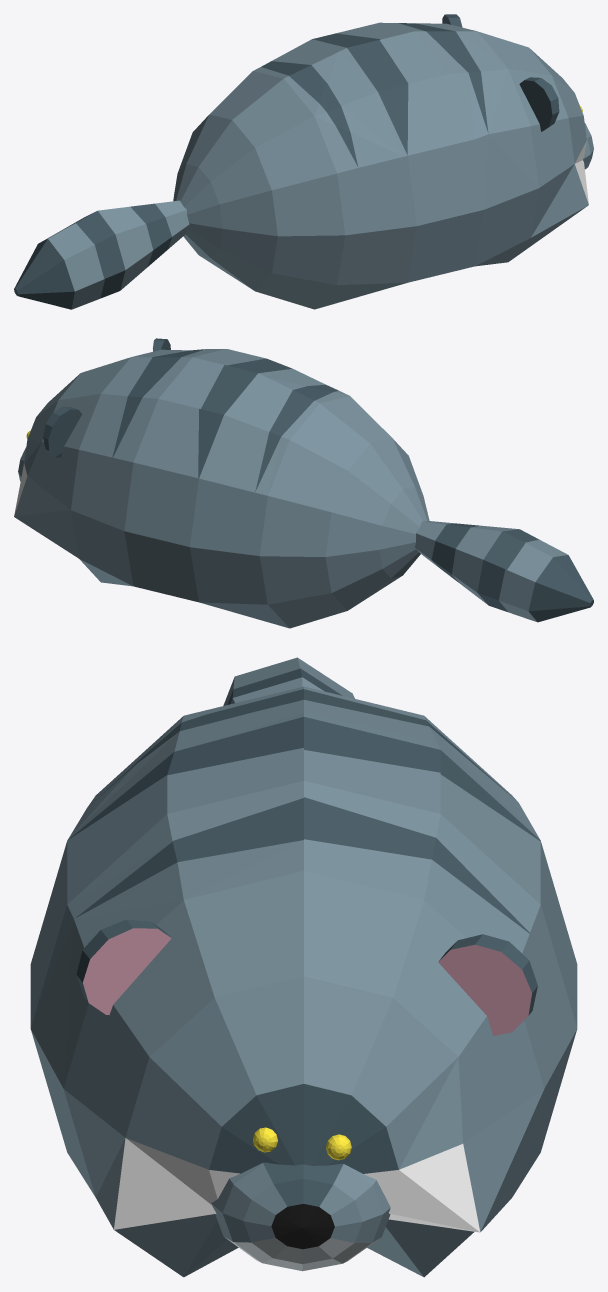
The model's file is raccoonmodel.fbx.
The picture shows the model from 3 angles, top to bottom: view 1: azimuth 30°, elevation 25°; view 2: azimuth 150°, elevation 25°; view 3: azimuth 270°, elevation 25°; orthographic projection. The views are drawn at different scales.
Visible parts, largest first — view 1: mesh_881793275, group_1414539115, mesh_1323920482; view 2: mesh_881793275, group_1414539115, mesh_156056444; view 3: mesh_881793275, mesh_1773084115, mesh_156056444, mesh_1323920482, group_1414539115.
Boxes of the visible parts, x1,y1,x2,y2 form: mesh_881793275: [173, 22, 588, 309]; group_1414539115: [14, 200, 189, 309]; mesh_1323920482: [519, 77, 559, 131]; mesh_881793275: [14, 349, 429, 628]; group_1414539115: [415, 521, 593, 622]; mesh_156056444: [43, 406, 82, 457]; mesh_881793275: [30, 686, 577, 1277]; mesh_1773084115: [211, 1162, 390, 1271]; mesh_156056444: [438, 934, 537, 1035]; mesh_1323920482: [76, 919, 171, 1015]; group_1414539115: [223, 657, 354, 705].
Bounding box in the file's own units: 98.14 × 36.43 × 41.36.
